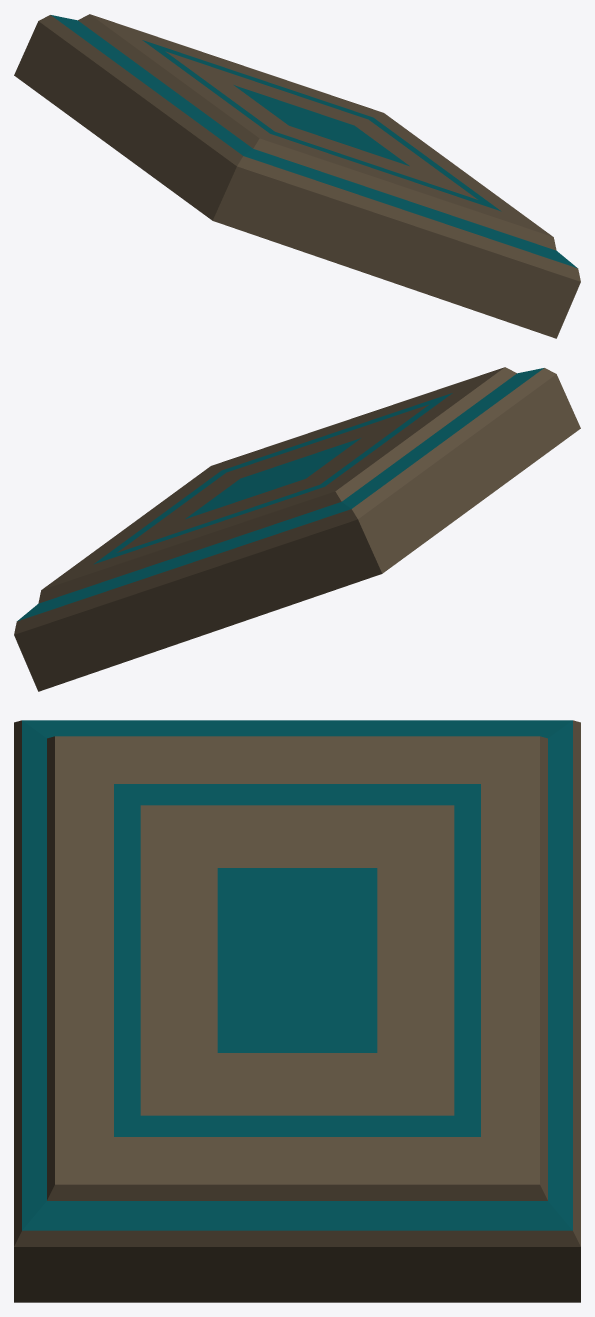
The model's file is ButtonC_Cyan.glb.
3 renders of one model, top to bottom at view 1: azimuth 30°, elevation 25°; view 2: azimuth 150°, elevation 25°; view 3: azimuth 270°, elevation 25°, orthographic. The views are drawn at different scales.
Visible parts, largest first — view 1: ButtonC; view 2: ButtonC; view 3: ButtonC.
Boxes of the visible parts, left/top/right/bottom form: ButtonC: left=14, top=14, right=580, bottom=338; ButtonC: left=14, top=367, right=580, bottom=691; ButtonC: left=14, top=720, right=580, bottom=1302.
Size of what is drawn, in the model's own units: 0.1875 by 0.1259 by 0.1751.
Materials: 2 (2 with a texture image).
